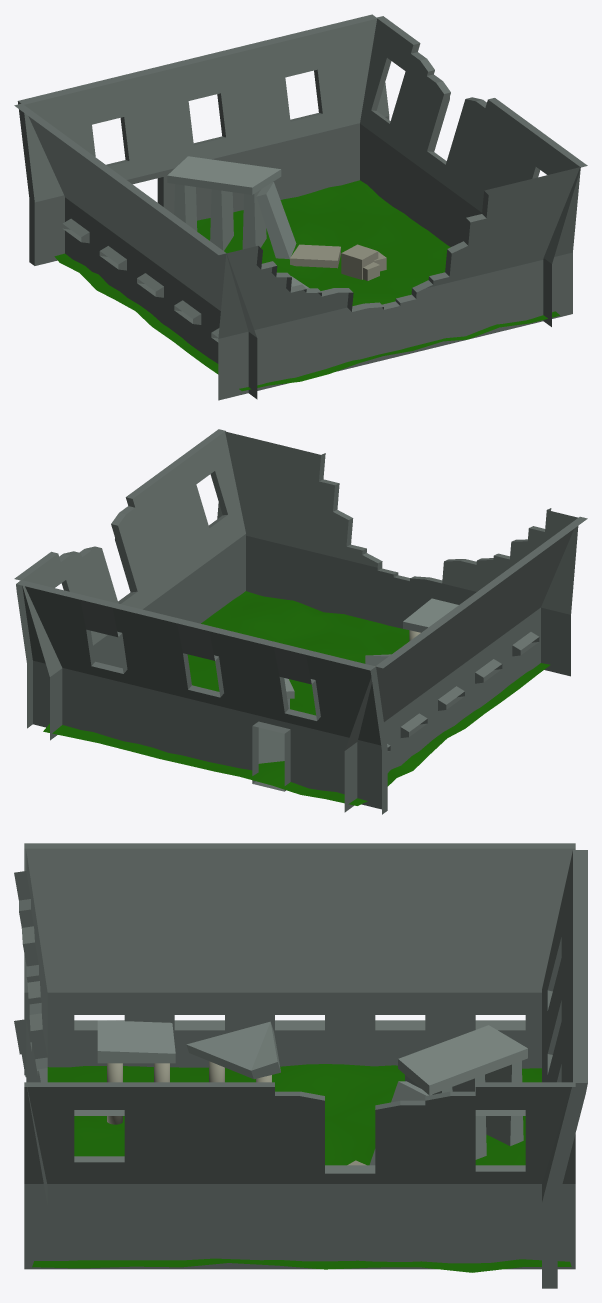
The model's file is ruins.dae.
3 renders of one model, top to bottom at view 1: azimuth 30°, elevation 25°; view 2: azimuth 150°, elevation 25°; view 3: azimuth 270°, elevation 25°, orthographic. The views are drawn at different scales.
Visible parts, largest first — view 1: Plane_003, Plane_004, Plane_002, Plane_001, Plane, Cube, Cube_004, Cube_006, Cube_005, Cube_010, Cube_001; view 2: Plane_003, Plane_004, Plane_002, Plane_001, Plane, Cube, Cube_011; view 3: Plane_001, Plane_002, Plane, Plane_003, Cube, Plane_004, Cube_011, Cube_012, Cube_006, Cube_004.
Boxes of the visible parts, box(x1,y1,x2,y2) form: Plane_003: box(17, 14, 389, 265); Plane_004: box(218, 167, 580, 400); Plane_002: box(360, 16, 587, 326); Plane_001: box(14, 103, 257, 399); Plane: box(54, 180, 559, 391); Cube: box(167, 156, 281, 231); Cube_004: box(256, 182, 296, 259); Cube_006: box(210, 189, 233, 250); Cube_005: box(242, 189, 266, 249); Cube_010: box(290, 244, 340, 268); Cube_001: box(341, 244, 378, 279); Plane_003: box(16, 580, 387, 814); Plane_004: box(217, 431, 578, 676); Plane_002: box(14, 429, 245, 740); Plane_001: box(344, 516, 587, 812); Plane: box(43, 591, 550, 805); Cube: box(258, 678, 294, 763); Cube_011: box(403, 598, 458, 632); Plane_001: box(24, 843, 575, 1075); Plane_002: box(24, 1082, 575, 1269); Plane: box(32, 1064, 571, 1272); Plane_003: box(542, 850, 587, 1288); Cube: box(398, 1025, 527, 1146); Plane_004: box(14, 851, 47, 1204); Cube_011: box(97, 1020, 175, 1063); Cube_012: box(186, 1021, 280, 1079); Cube_006: box(452, 1074, 486, 1159); Cube_004: box(369, 1081, 431, 1165).
Size of the model in its own units: 21.54 by 21.53 by 9.56.
